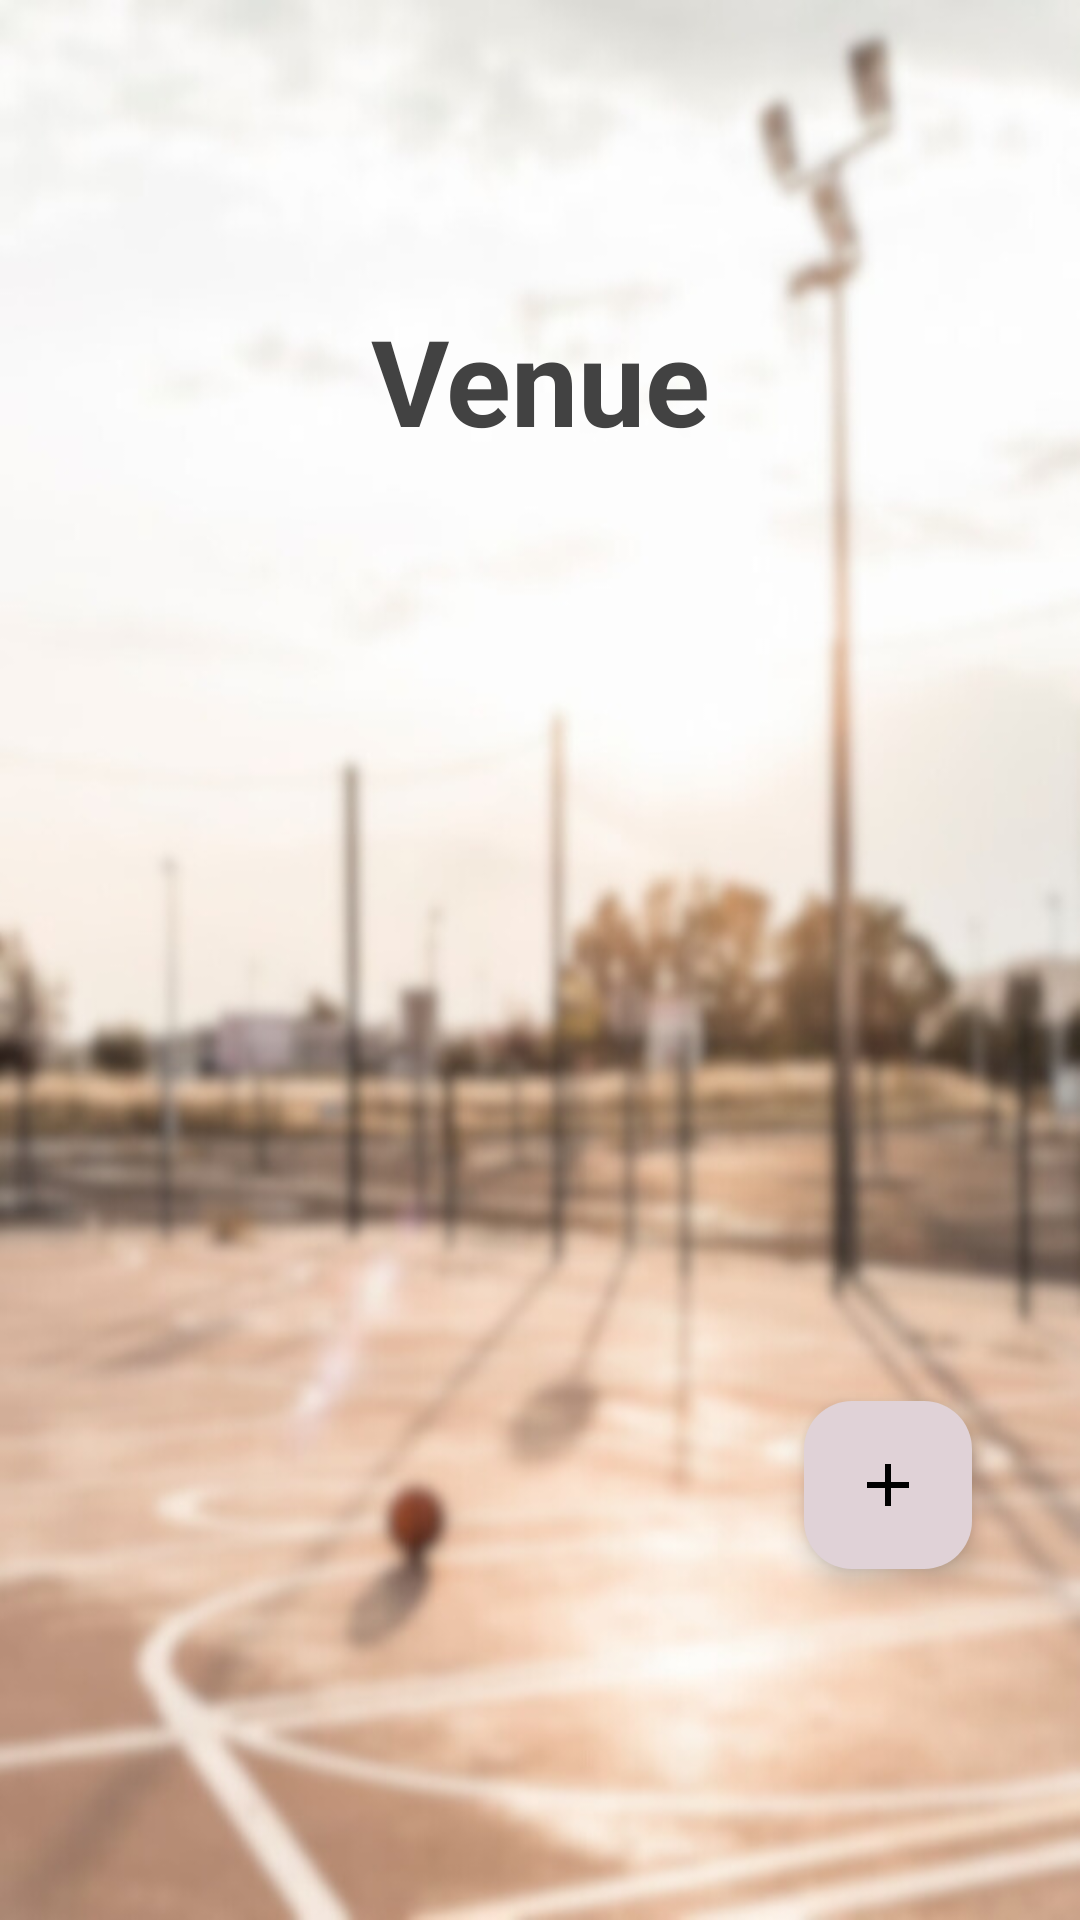

Where to tap for icons on this 1080x1920 app screen, as point (x, y):
add: point (888, 1485)
